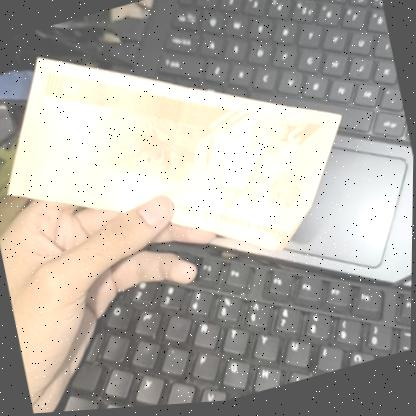vef_back: (0, 0, 372, 317)
